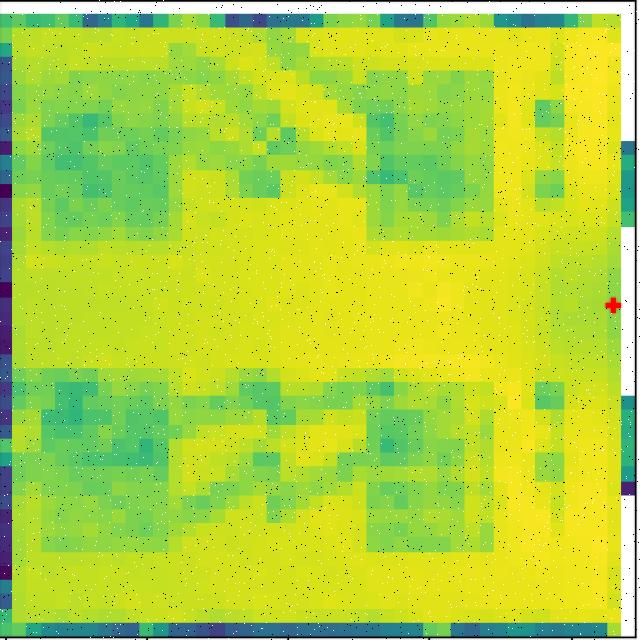Concrete: (358, 51, 506, 254)
Glass: (42, 51, 188, 266)
Metal: (334, 359, 506, 566)
Wood: (28, 358, 179, 562)
